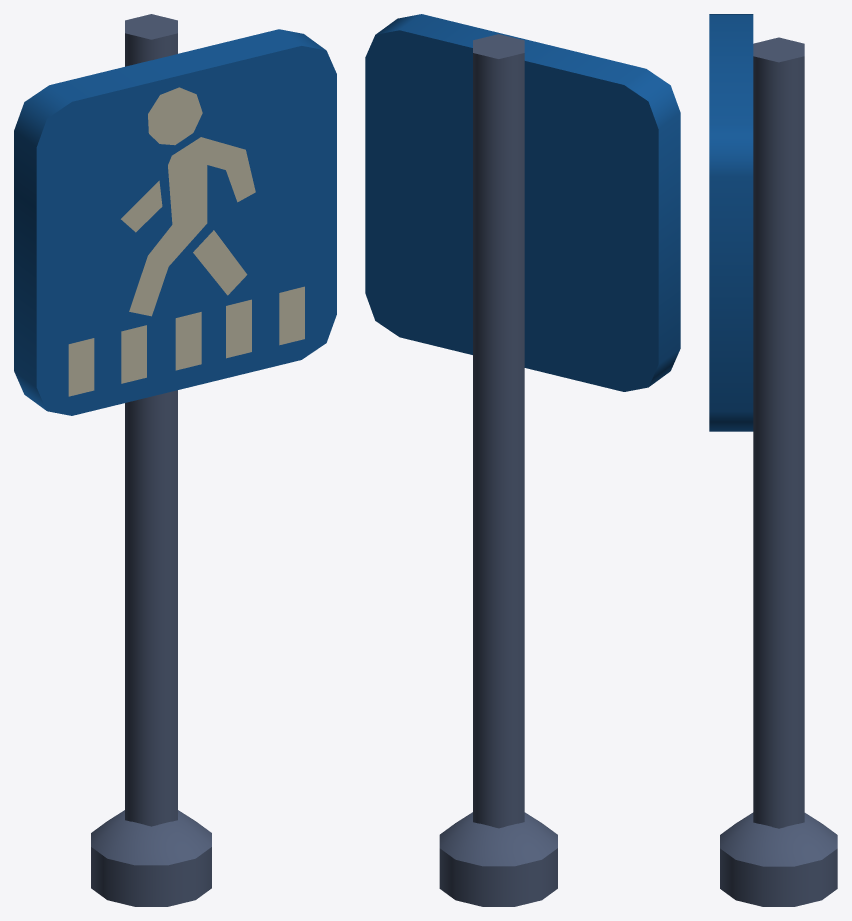
The model's file is roadsign_v1.fbx.
The picture shows the model from 3 angles, left to right: view 1: azimuth 30°, elevation 25°; view 2: azimuth 150°, elevation 25°; view 3: azimuth 270°, elevation 25°; orthographic projection. The views are drawn at different scales.
Visible parts, largest first — view 1: roadsign_v1; view 2: roadsign_v1; view 3: roadsign_v1.
Part boxes in pixels (<box>): roadsign_v1: <box>14,14,336,906</box>; roadsign_v1: <box>365,14,680,906</box>; roadsign_v1: <box>709,14,837,906</box>.
Size of the model in its own units: 103 by 280 by 39.17.
